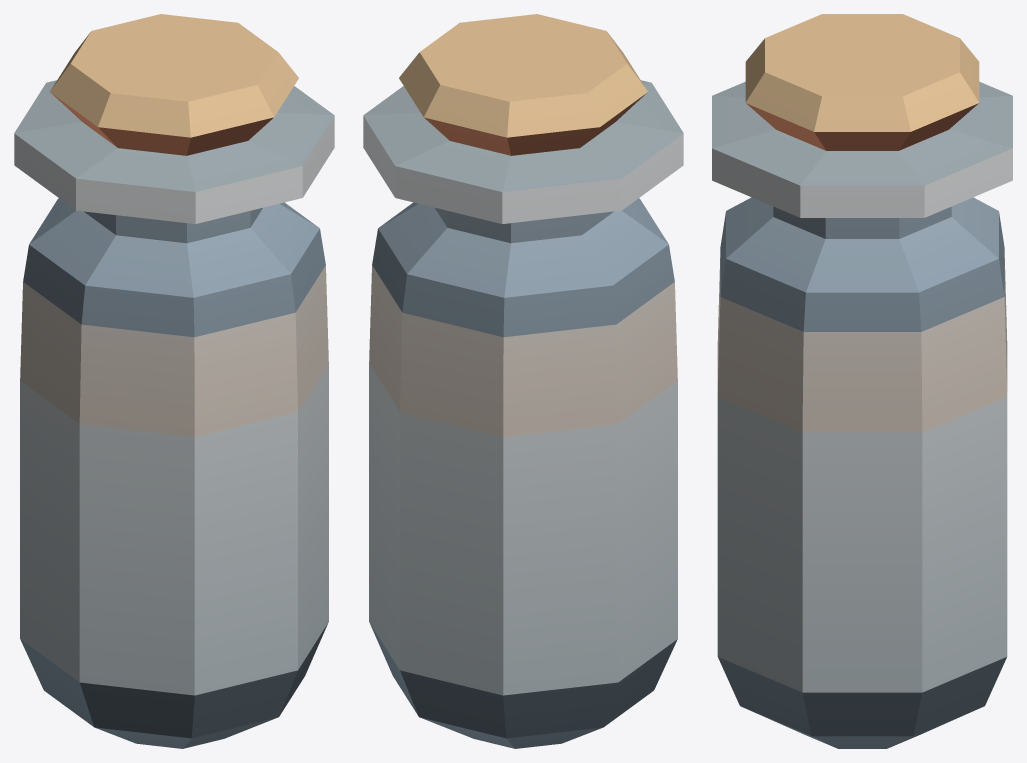
Rendered from source.glb.
3 views of the same model, side by side, from view 1: azimuth 30°, elevation 25°; view 2: azimuth 150°, elevation 25°; view 3: azimuth 270°, elevation 25° (orthographic).
Visible parts, largest first — view 1: model; view 2: model; view 3: model.
Part boxes in pixels (<box>): model: <box>14,14,334,748</box>; model: <box>363,14,683,748</box>; model: <box>712,14,1012,748</box>.
Bounding box in the file's own units: 0.22 × 0.54 × 0.22.
1 material, 1 textured.
